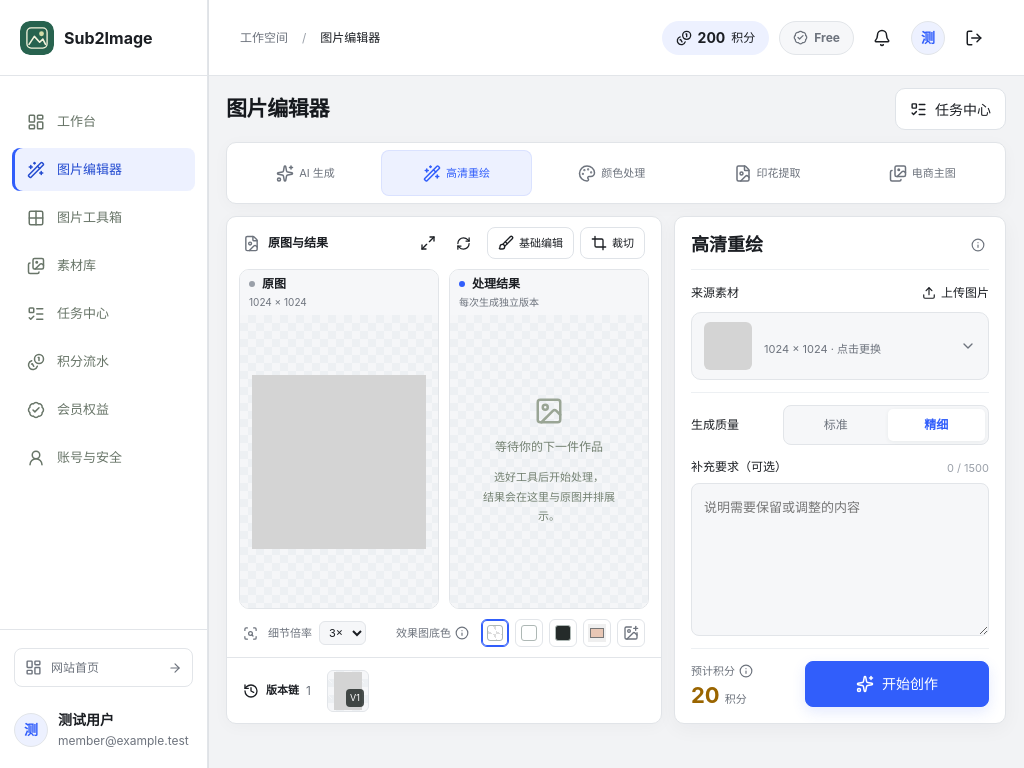
Scenario: Studio task workflow › switches to generation without showing an unrelated source image
Click the button "AI 生成" at (305, 173), box [234,150,377,196]
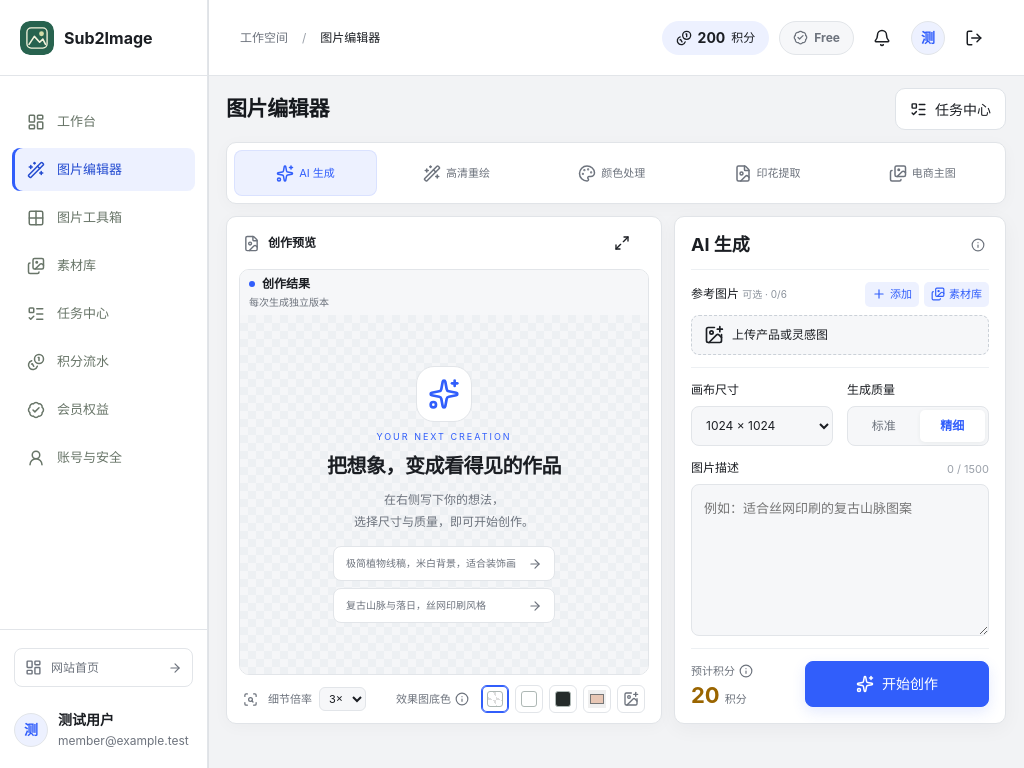
Result: the text "把想象，变成看得见的作品" is shown at [327,451,561,481]
Result: the picture "来源素材预览" is gone
Result: the button "上传图片" is gone
